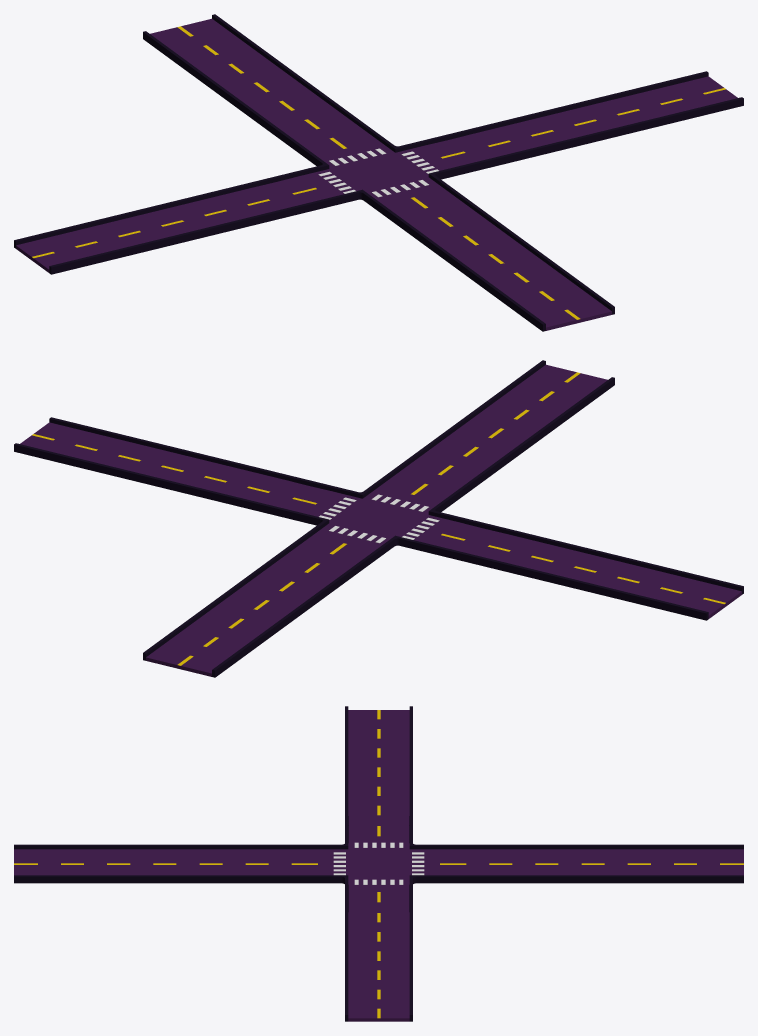
Rendered from road.fbx.
3 views of the same model, one above another, from view 1: azimuth 30°, elevation 25°; view 2: azimuth 150°, elevation 25°; view 3: azimuth 270°, elevation 25° (orthographic). The views are drawn at different scales.
Parts seen in each view (by area): view 1: Plane; view 2: Plane; view 3: Plane.
Boxes of the visible parts, box(x1,y1,x2,y2) form: Plane: box(14, 14, 743, 331); Plane: box(14, 360, 743, 677); Plane: box(14, 706, 743, 1021).
Size of the model in its own units: 7500 by 74.77 by 7500.
